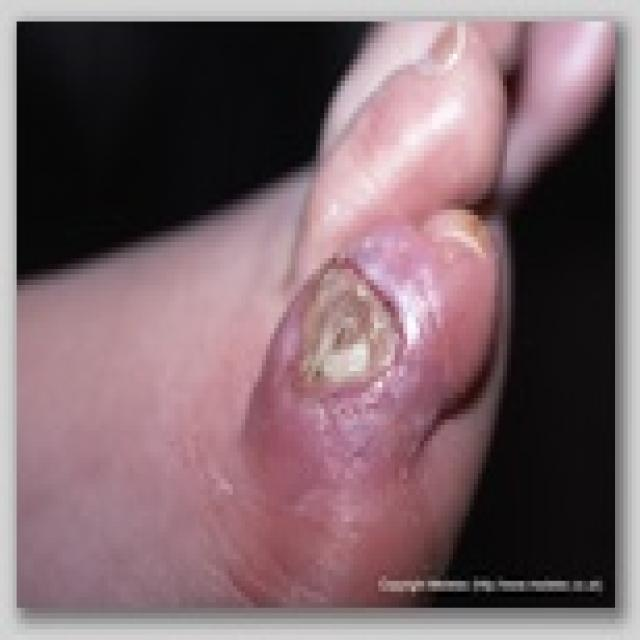wound: (291, 253, 399, 398)
